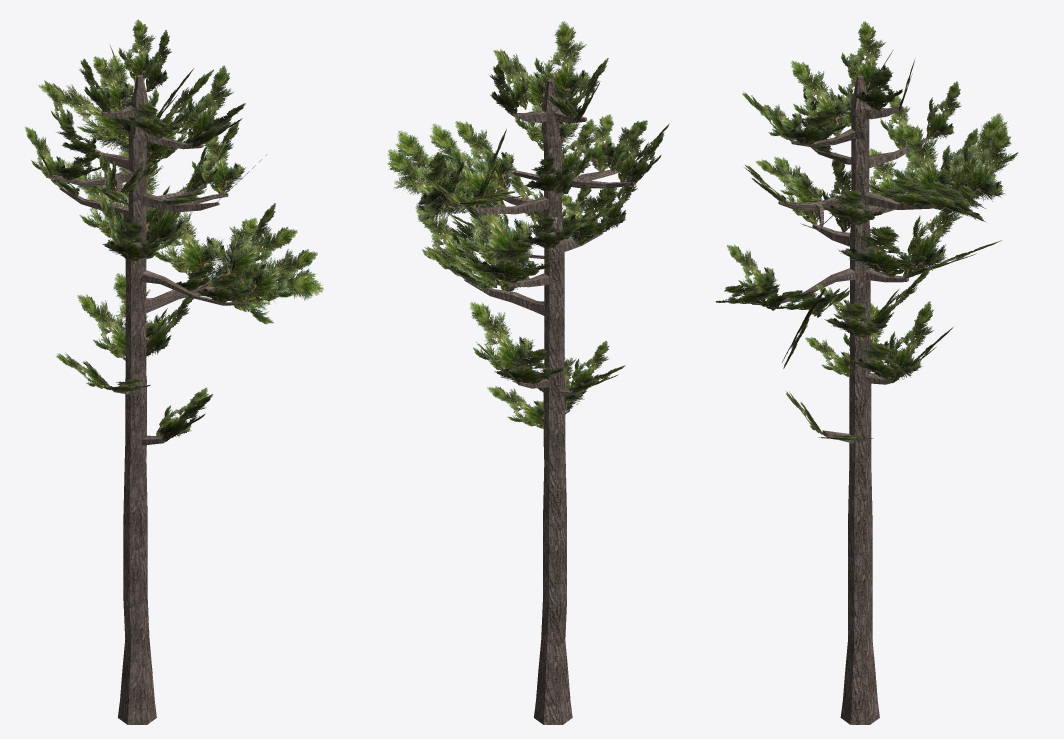
File: Pine Tree Final.fbx
3 renders of one model, left to right at view 1: azimuth 30°, elevation 25°; view 2: azimuth 150°, elevation 25°; view 3: azimuth 270°, elevation 25°, orthographic.
Visible parts, largest first — view 1: Long Leaf, Pine Trunk; view 2: Long Leaf, Pine Trunk; view 3: Long Leaf, Pine Trunk.
Part boxes in pixels (box(x1,y1,x2,y2)): Long Leaf: box(25, 19, 323, 441); Pine Trunk: box(49, 75, 246, 724); Long Leaf: box(387, 21, 669, 428); Pine Trunk: box(456, 79, 635, 724); Long Leaf: box(715, 21, 1018, 440); Pine Trunk: box(752, 75, 930, 724).
Size of the model in its own units: 474 by 1146 by 525.
51 materials, 51 textured.
